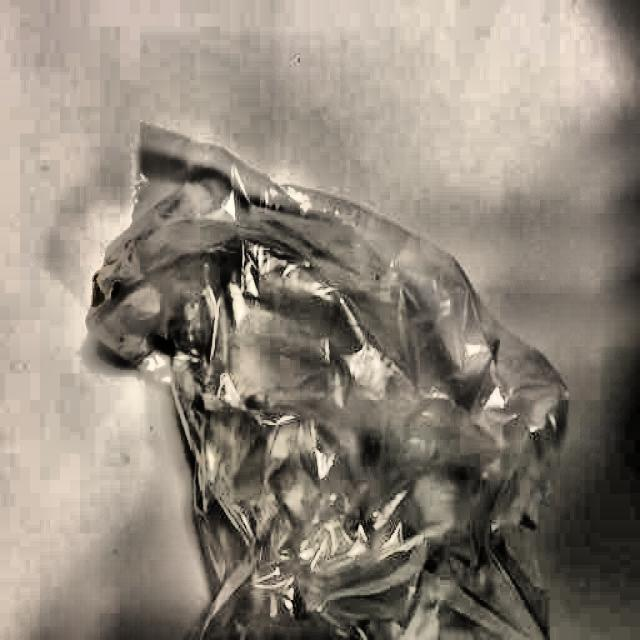plastic: (132, 121, 524, 640)
